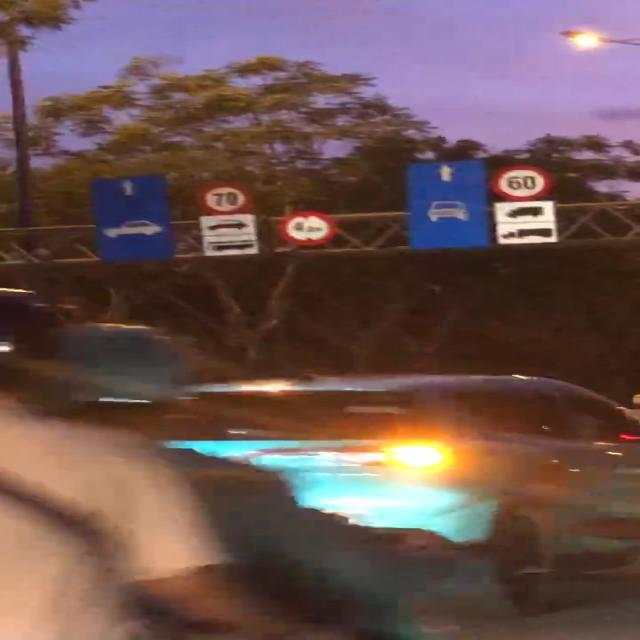Bien bao toc do toi da cho phep: (488, 163, 552, 201), (194, 184, 258, 217)
